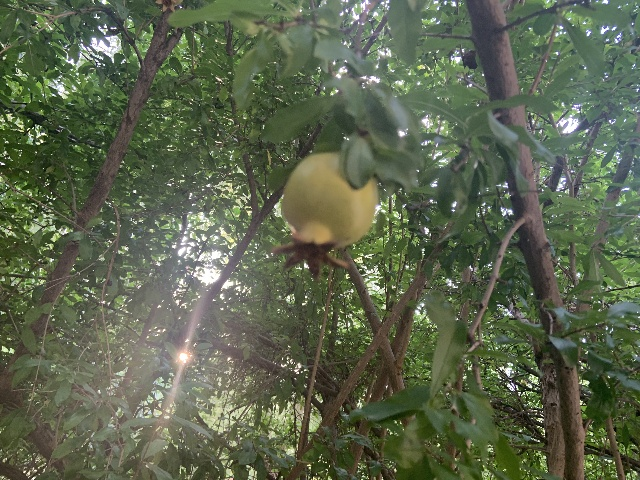mid-growth: (270, 151, 379, 280)
